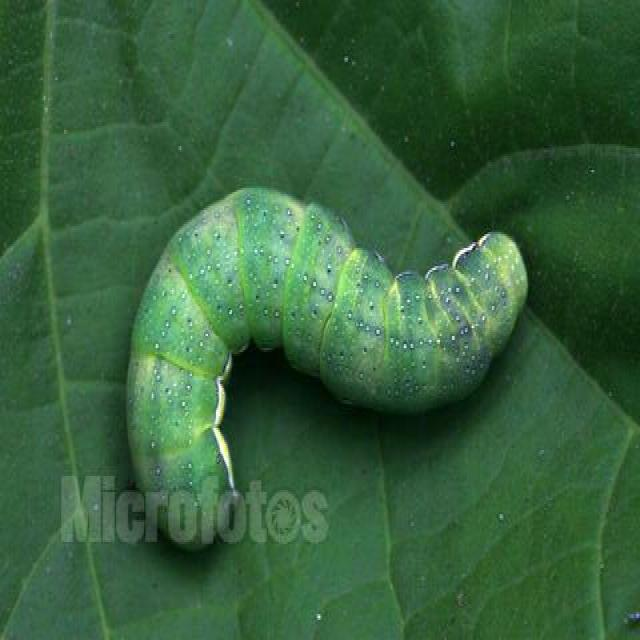BeetArmyWorm-Larva-: (110, 168, 544, 572)
